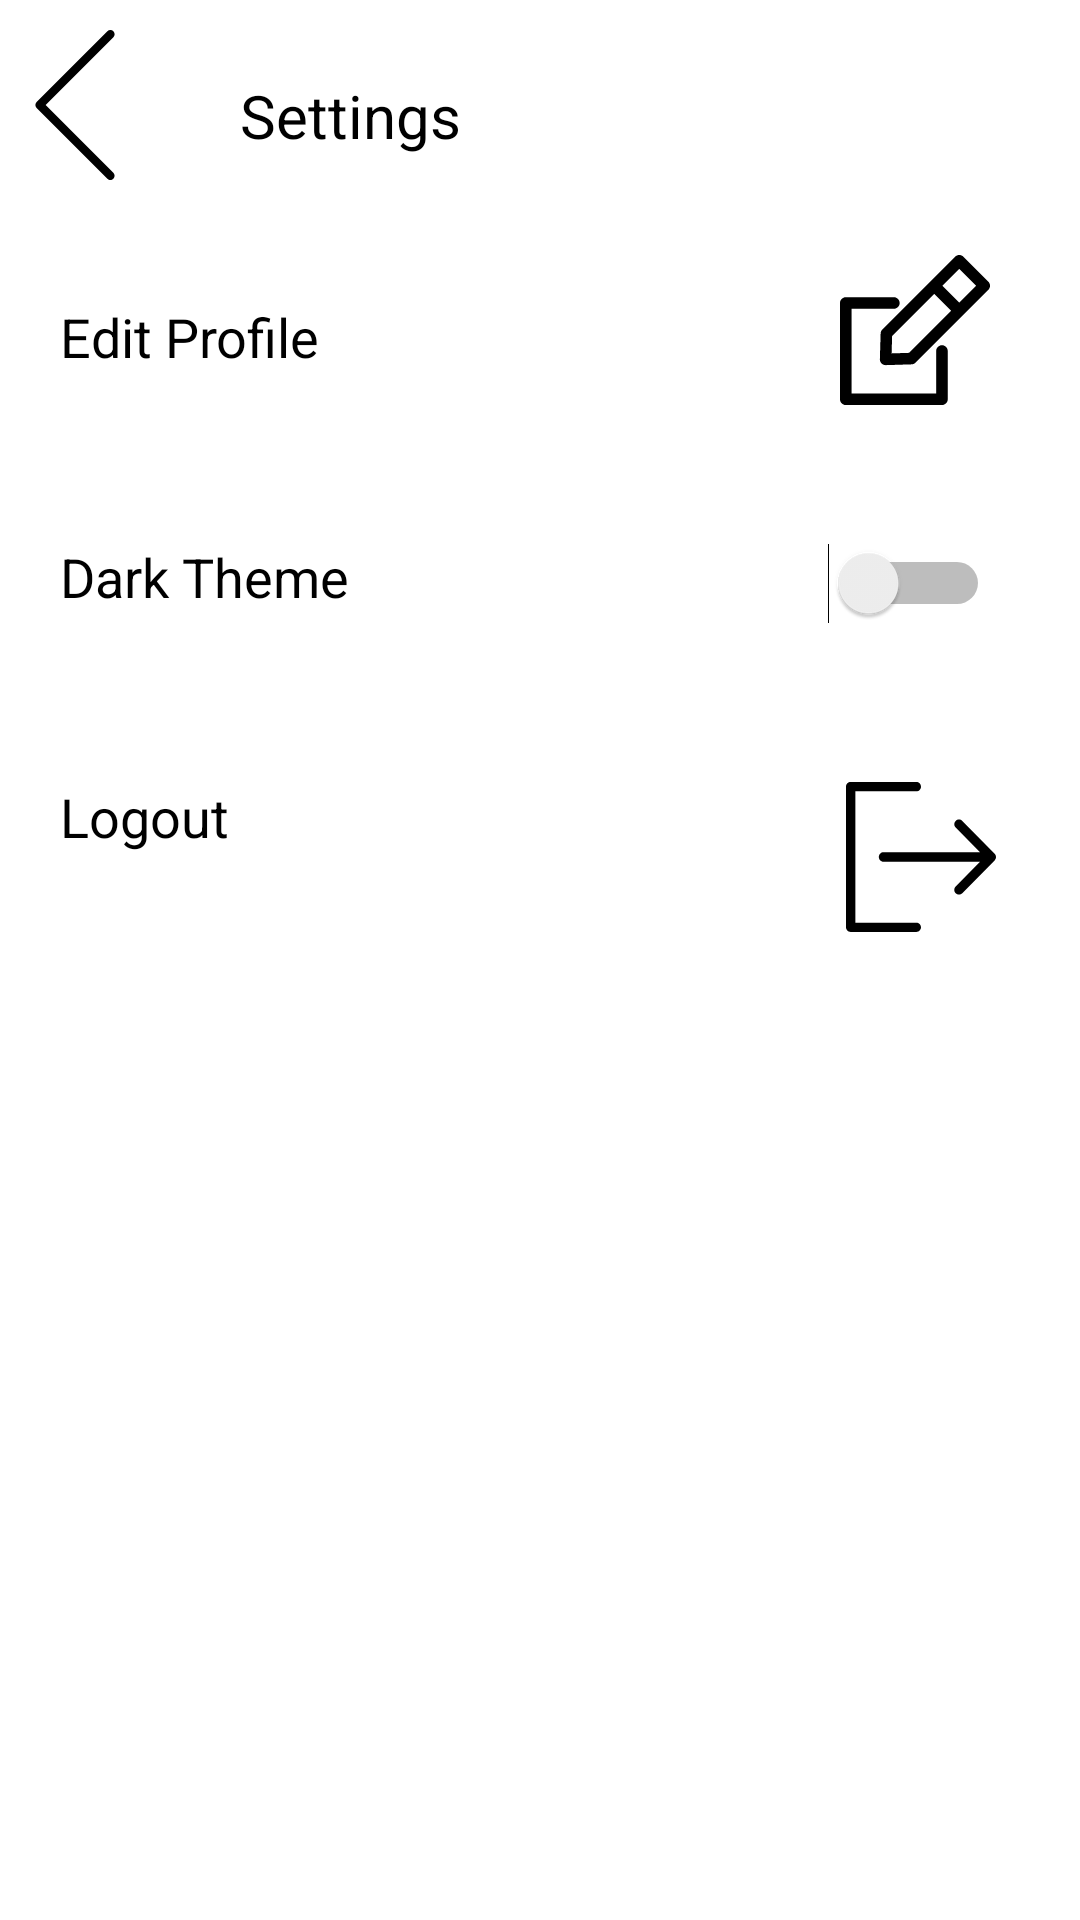

Screen size 1080 x 1920. Icon name, then its box in pixels as {"left": x1, "top": y1, "right": x2, "bottom": y2}:
back: {"left": 35, "top": 30, "right": 115, "bottom": 180}
